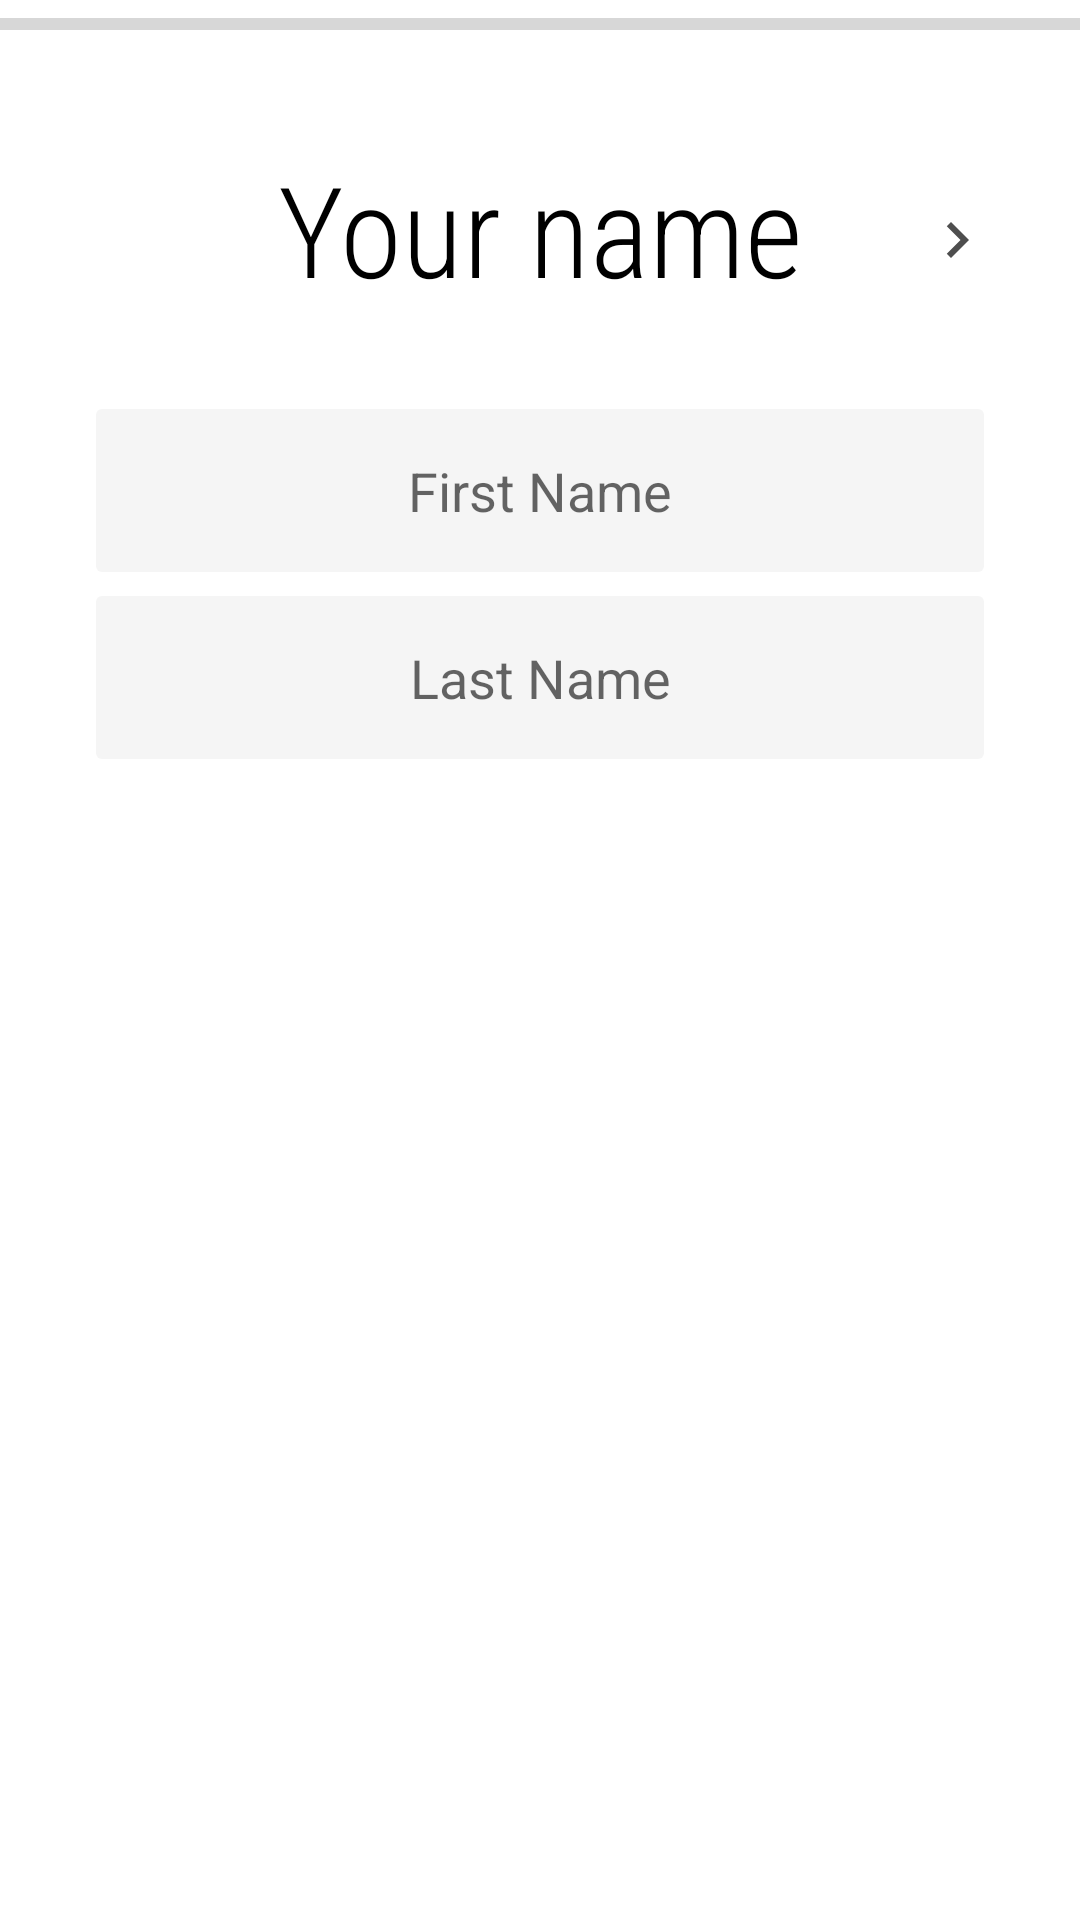

Icon bounding boxes for this 1080px×1920px phone screenshot, format (x1, y1, x2, y2):
chevron right: (947, 222, 969, 258)
